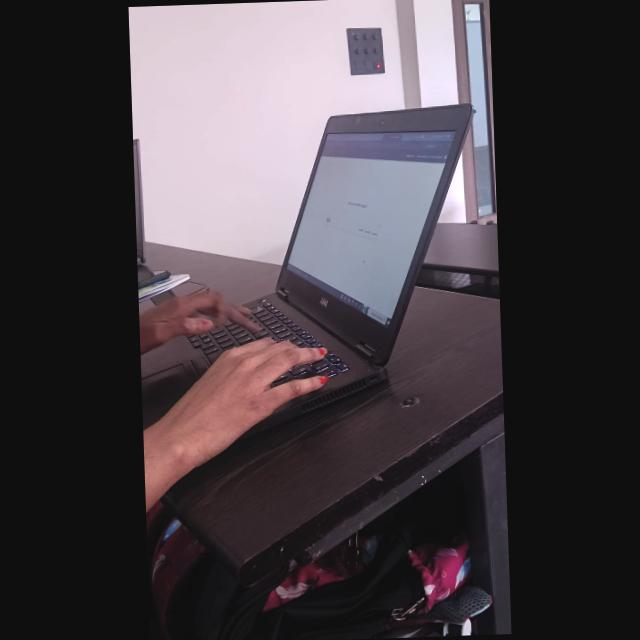laptop: (165, 78, 488, 394)
